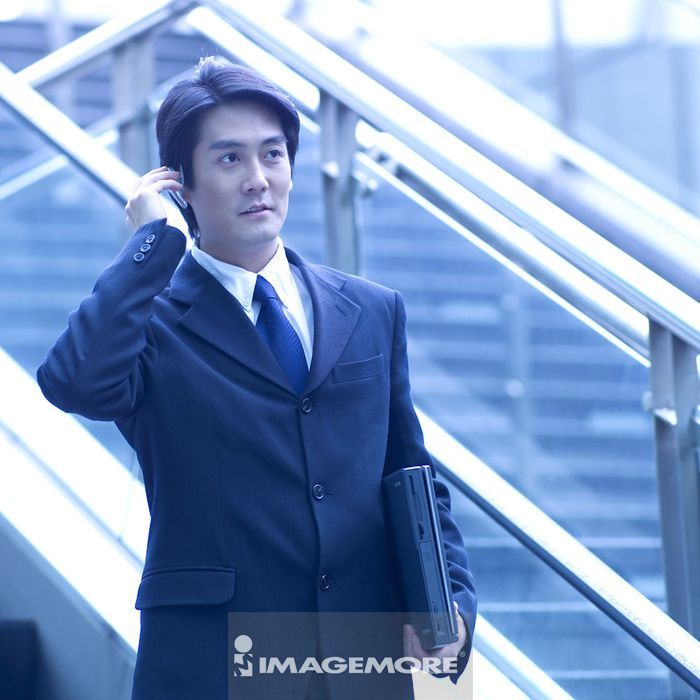talk: (122, 127, 294, 266)
